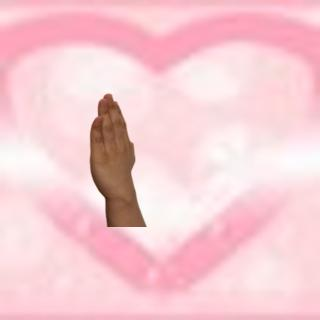RIGHT: (83, 89, 140, 207)
